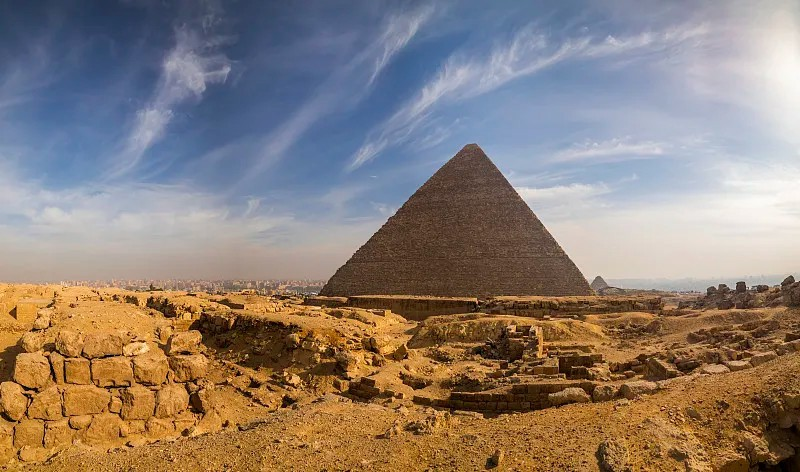Pyramid: (319, 144, 597, 299)
